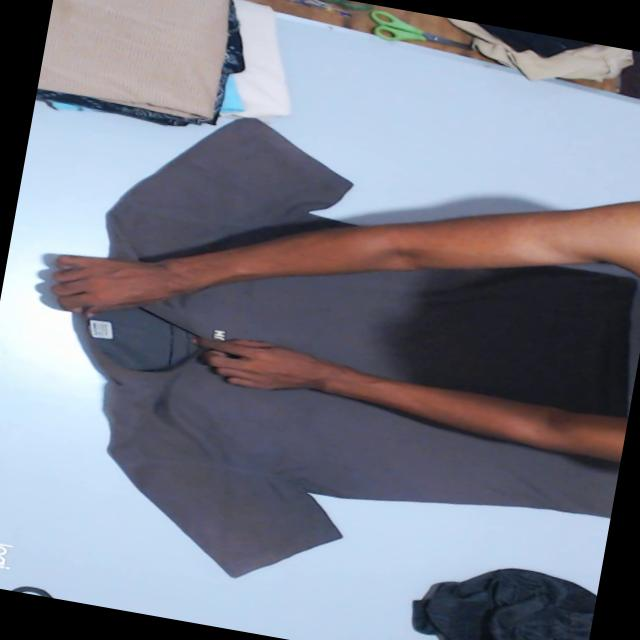new-garment: (77, 265, 636, 575), (106, 119, 352, 260)
